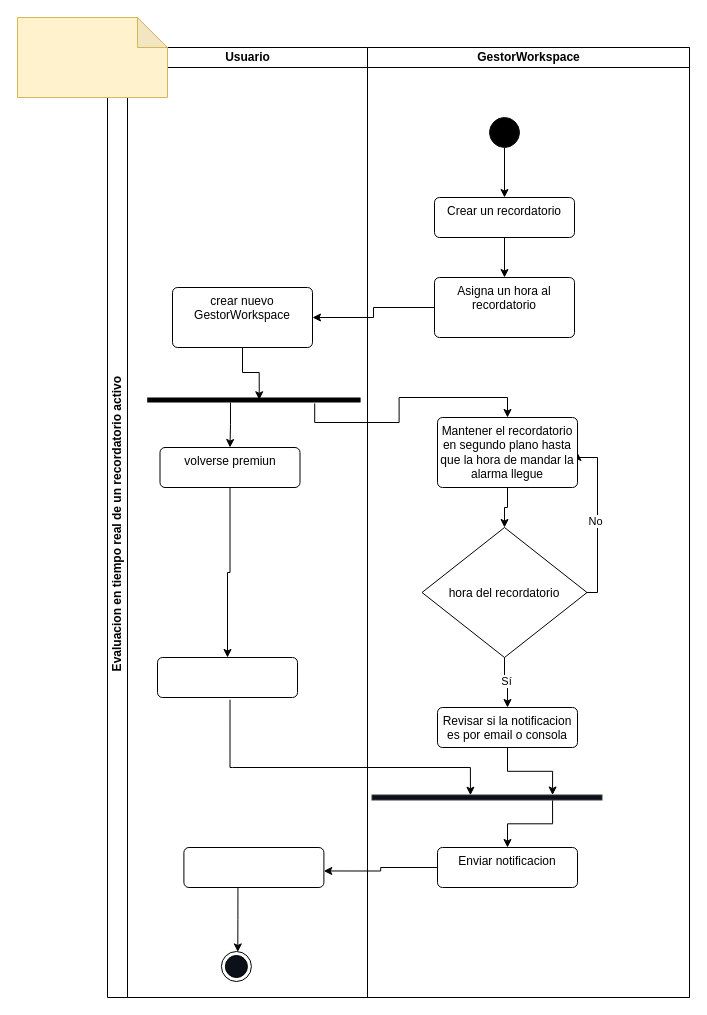
Image size: 707x1015. Some labels were removed from this diagram. Each missing label, with the centre of its shape:
Diagrama de Actividad: (92,57)
Recibir notificacion: (253,867)
Renovar premiun: (227,677)
